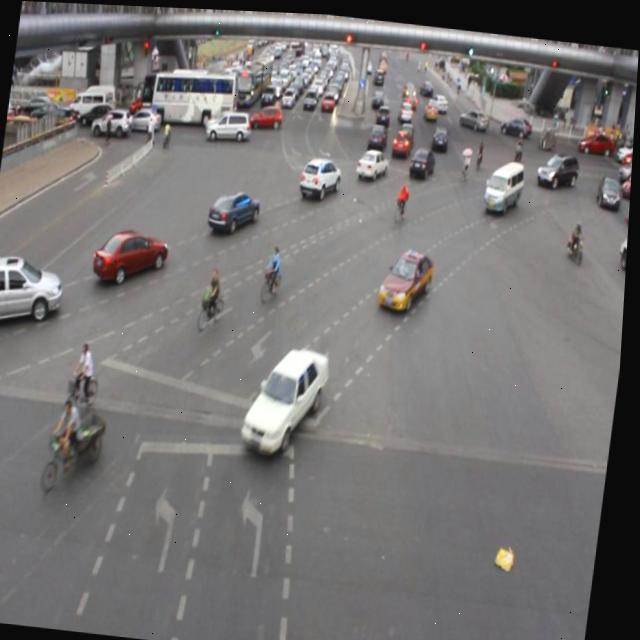car: (243, 336, 332, 451), (95, 225, 173, 284), (379, 242, 437, 309), (206, 185, 264, 236), (298, 150, 345, 200), (536, 145, 580, 186), (356, 143, 390, 179), (408, 142, 437, 177)
truck: (0, 253, 67, 330), (483, 154, 526, 210)
